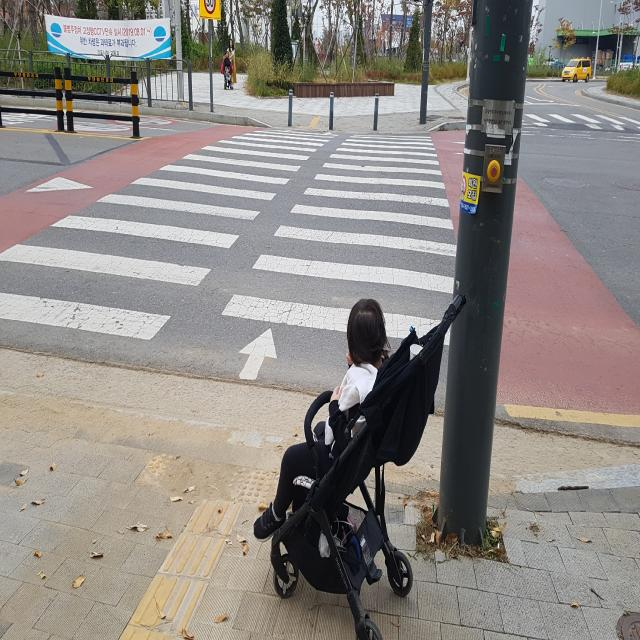횡단보도: (0, 128, 457, 382)
